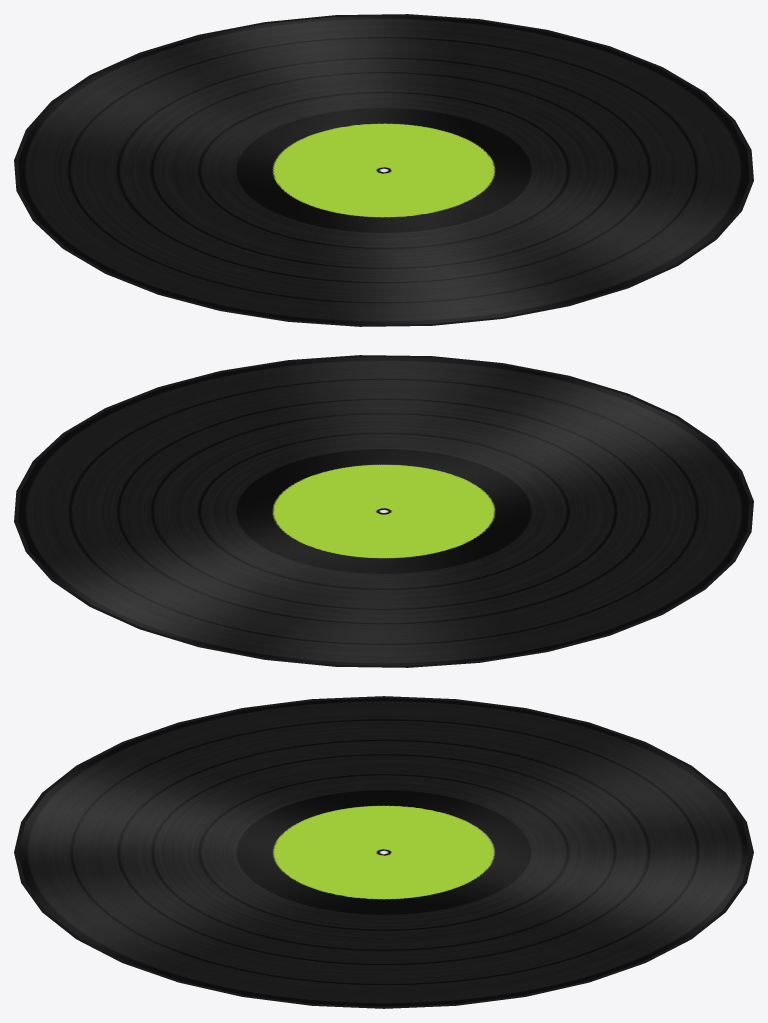
Rendered from disk4.glb.
3 renders of one model, top to bottom at view 1: azimuth 30°, elevation 25°; view 2: azimuth 150°, elevation 25°; view 3: azimuth 270°, elevation 25°, orthographic.
Visible parts, largest first — view 1: Cylinder.003; view 2: Cylinder.003; view 3: Cylinder.003.
Boxes of the visible parts, box(x1,y1,x2,y2) form: Cylinder.003: box(14, 14, 753, 326); Cylinder.003: box(14, 355, 753, 667); Cylinder.003: box(14, 696, 753, 1008).
Size of the model in its own units: 1.64 by 0 by 1.64.
2 materials, 1 textured.
